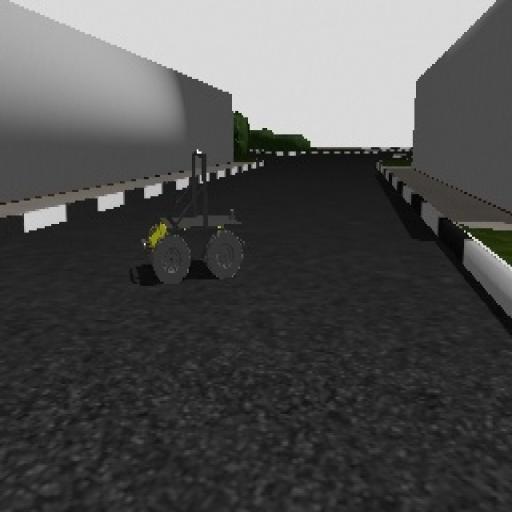huskya200: (128, 127, 253, 308)
